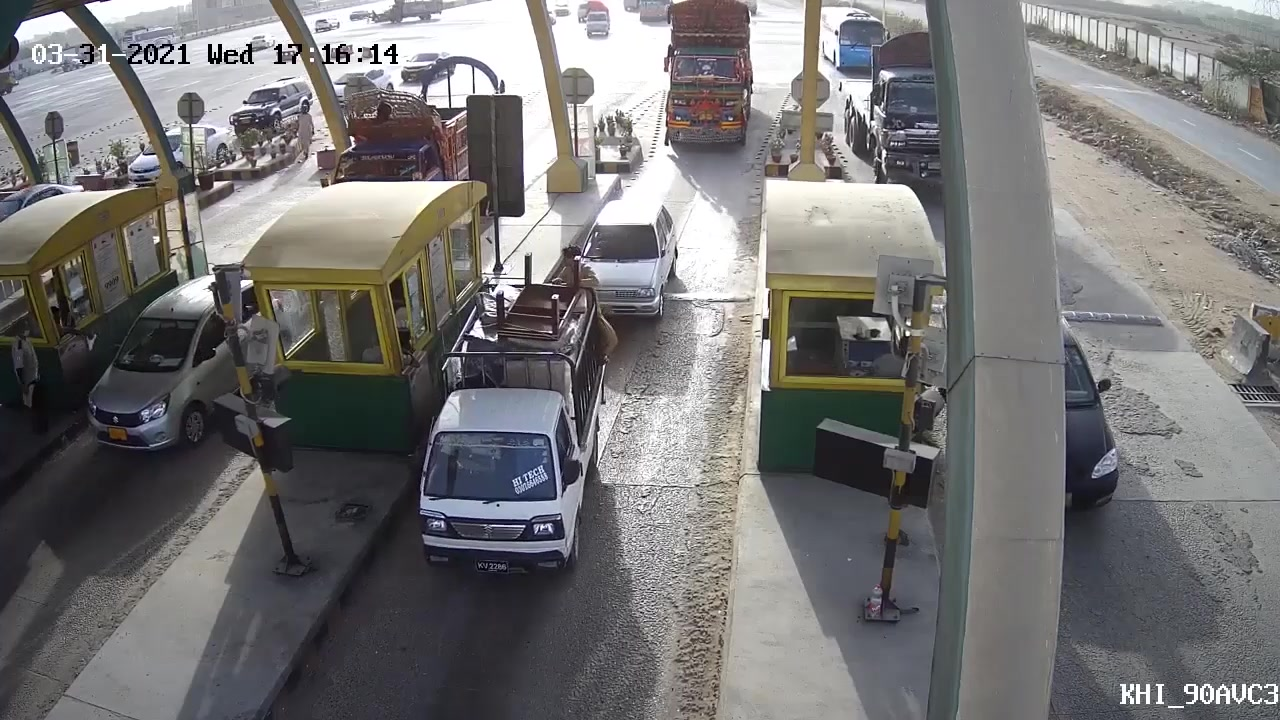F1: (407, 283, 608, 577), (581, 198, 684, 331)
